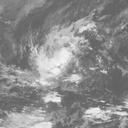cyclone: (30, 38, 84, 87)
